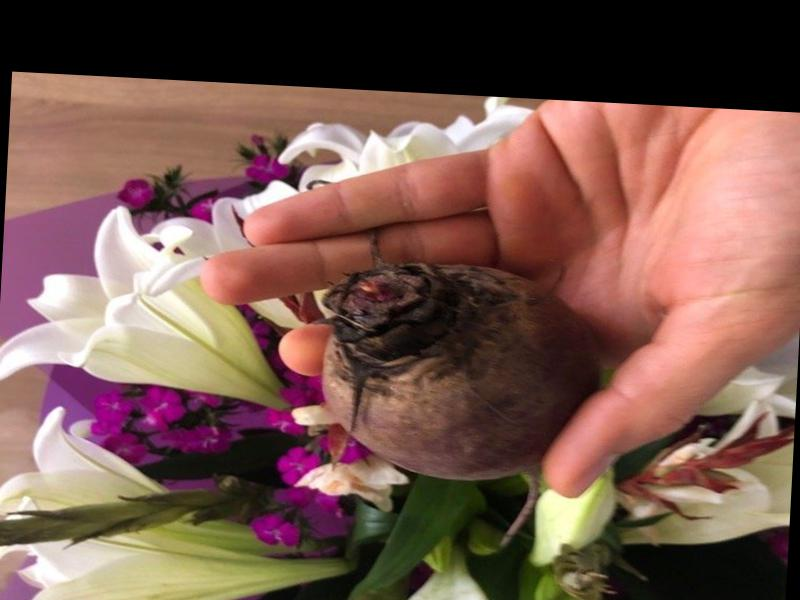Beet: (312, 256, 605, 553)
